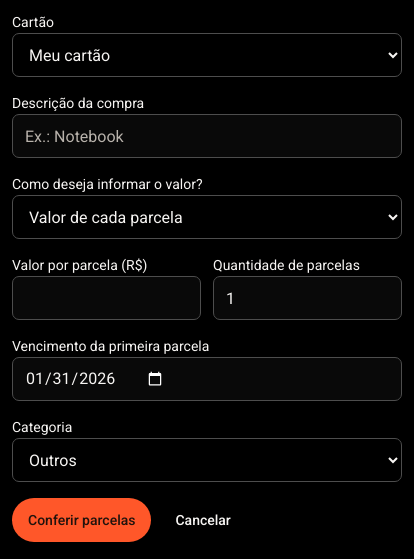
Test case: só grava depois da prévia e permite cancelar sem lançar parcelas
Later steps or results of the test are not shown.
Type "Notebook" into the field labelled "Descrição da compra" at (207, 136), box [12, 114, 402, 158]
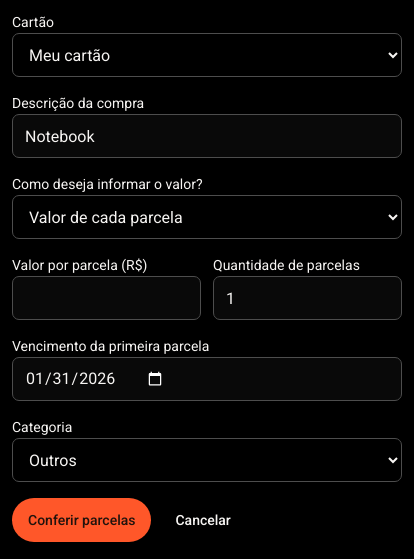
Type "500" into the number field labelled "Valor por parcela (R$)" at (106, 298), box [12, 276, 201, 320]
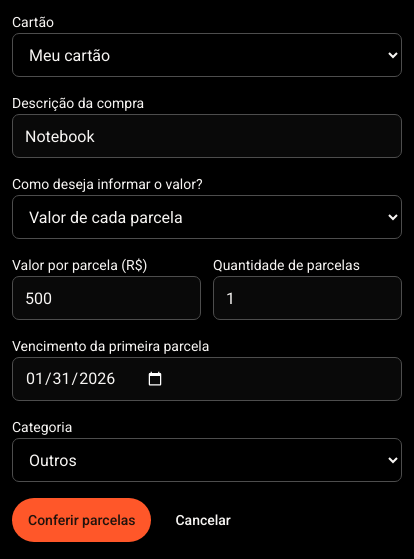
Replace the text in the number field labelled "Quantidade de parcelas" with "5" at (308, 298), box [213, 276, 402, 320]
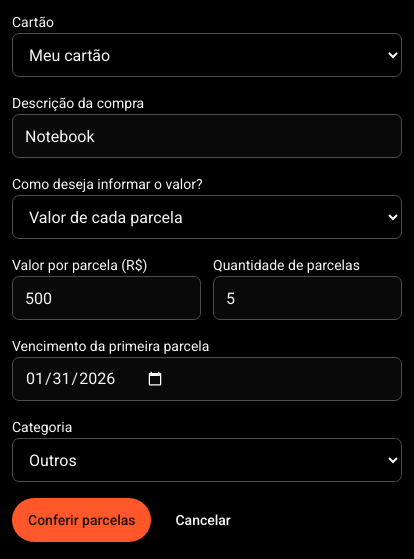
Click the button "Conferir parcelas" at (82, 520), box [12, 498, 152, 542]
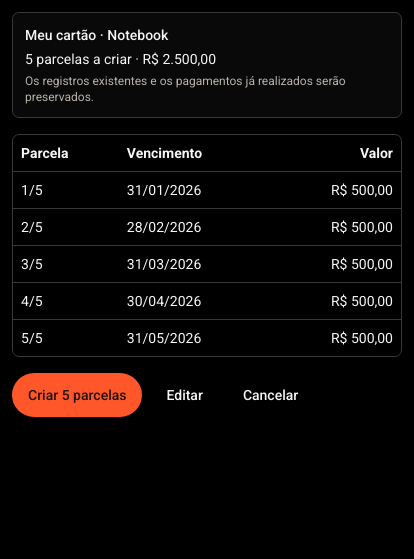
Expected: the text "28/02/2026" is shown, [119, 208, 271, 246]
